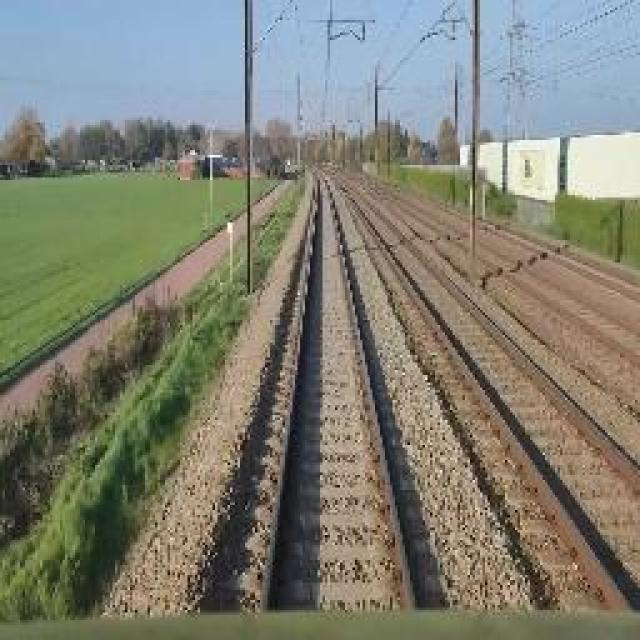rail: (211, 159, 640, 613)
